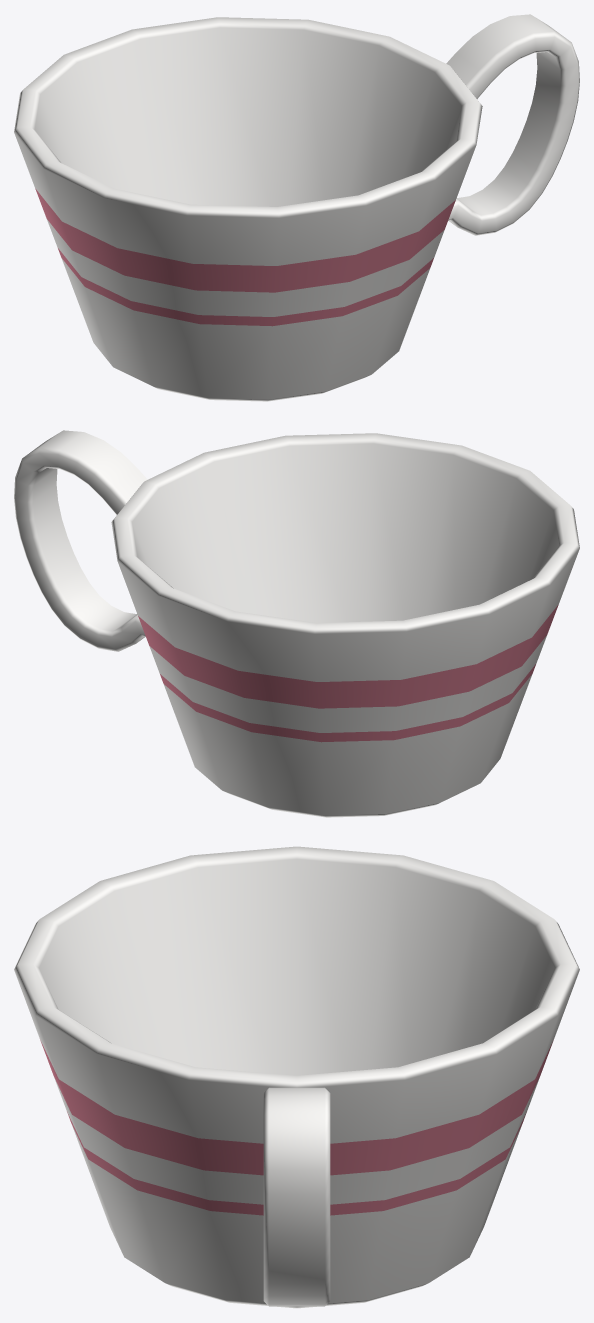
Rendered from Cup_8.glb.
3 views of the same model, one above another, from view 1: azimuth 30°, elevation 25°; view 2: azimuth 150°, elevation 25°; view 3: azimuth 270°, elevation 25° (orthographic). The views are drawn at different scales.
Visible parts, largest first — view 1: Cup_8; view 2: Cup_8; view 3: Cup_8.
Part boxes in pixels (x1,y1,x2,y2): Cup_8: (14,14,579,401); Cup_8: (14,430,579,817); Cup_8: (14,846,579,1308).
Bounding box in the file's own units: 0.2072 × 0.0939 × 0.1617.
Materials: 1 (1 with a texture image).
